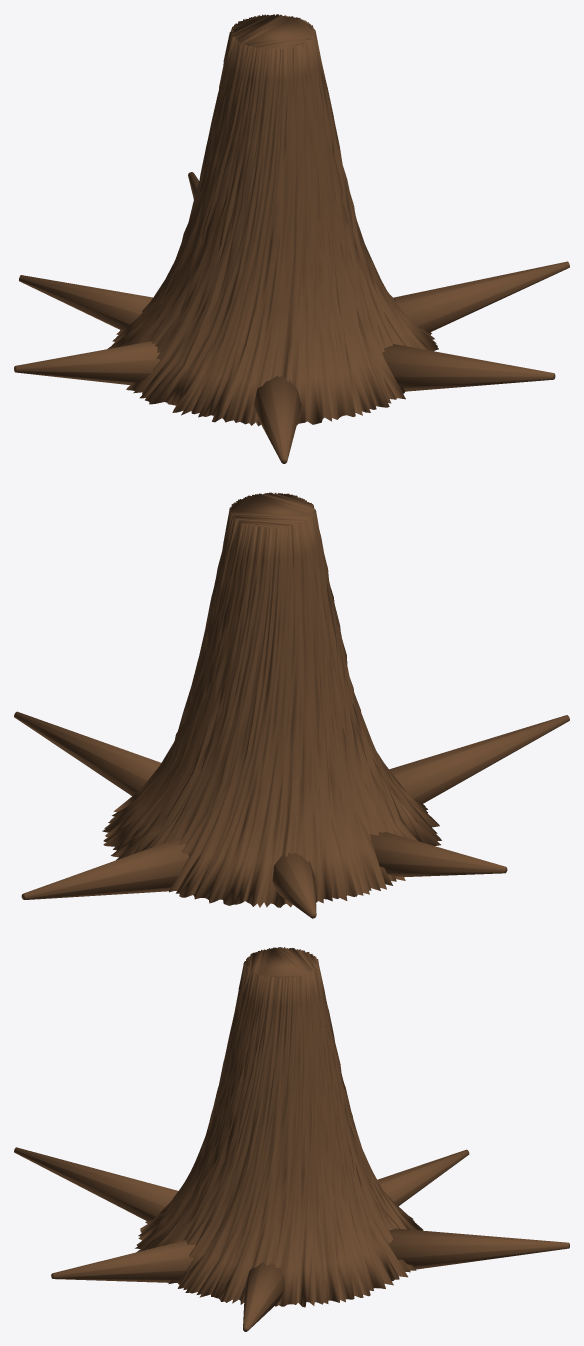
File: trunk.glb
3 views of the same model, one above another, from view 1: azimuth 30°, elevation 25°; view 2: azimuth 150°, elevation 25°; view 3: azimuth 270°, elevation 25° (orthographic). The views are drawn at different scales.
Visible parts, largest first — view 1: Trunk, Root5, Root0, Root3, Root2, Root4; view 2: Trunk, Root1, Root4, Root0, Root3, Root2; view 3: Trunk, Root1, Root4, Root5, Root0, Root2.
Part boxes in pixels (bbox=[...]): Trunk: bbox=[107, 14, 438, 426]; Root5: bbox=[382, 344, 555, 391]; Root0: bbox=[393, 261, 569, 332]; Root3: bbox=[14, 341, 159, 384]; Root2: bbox=[19, 275, 152, 330]; Root4: bbox=[253, 376, 301, 463]; Trunk: bbox=[102, 492, 441, 907]; Root1: bbox=[21, 839, 189, 899]; Root4: bbox=[389, 715, 569, 803]; Root0: bbox=[14, 711, 161, 795]; Root3: bbox=[370, 831, 507, 877]; Root2: bbox=[272, 853, 316, 918]; Trunk: bbox=[135, 947, 422, 1307]; Root1: bbox=[388, 1228, 569, 1269]; Root4: bbox=[14, 1147, 178, 1220]; Root5: bbox=[51, 1240, 195, 1282]; Root0: bbox=[243, 1262, 284, 1331]; Root2: bbox=[377, 1149, 469, 1206].
Bounding box in the file's own units: 5.39 × 3.49 × 5.7.
